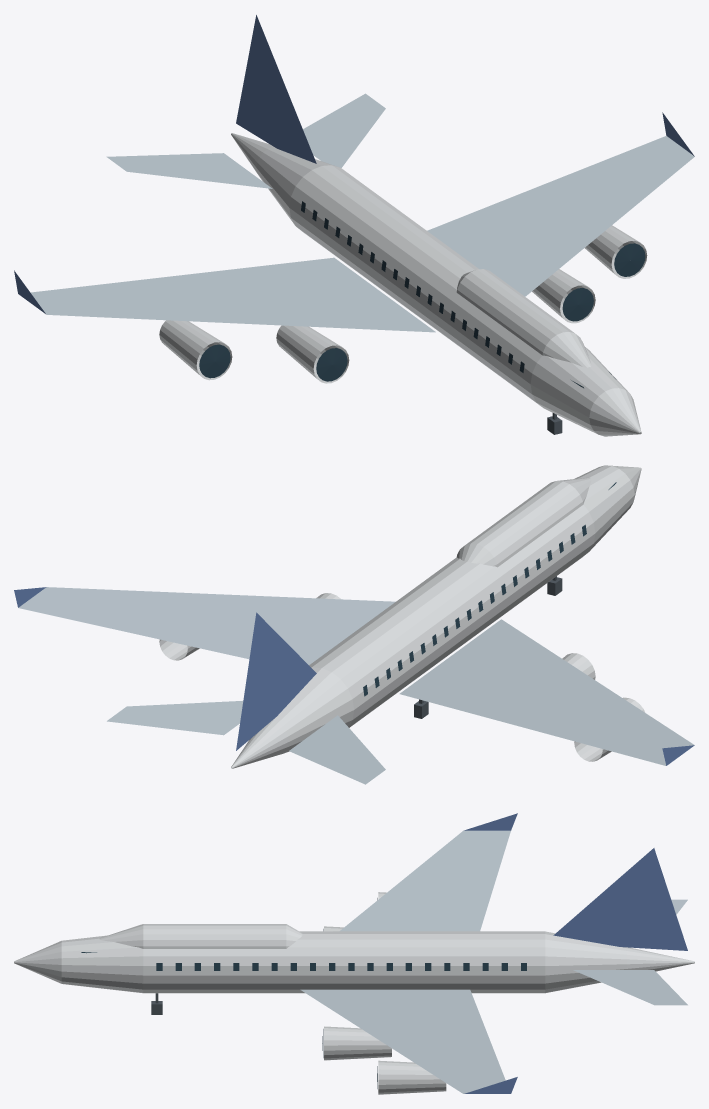
The model's file is b747-BAW.gltf.
3 renders of one model, top to bottom at view 1: azimuth 30°, elevation 25°; view 2: azimuth 150°, elevation 25°; view 3: azimuth 270°, elevation 25°, orthographic. The views are drawn at different scales.
Parts seen in each view (by area): view 1: object 1; view 2: object 1, Gear; view 3: object 1.
Part boxes in pixels (x1,y1,x2,y2): object 1: (14,15,694,436); object 1: (14,465,694,784); Gear: (414,576,562,718); object 1: (14,813,694,1094).
Size of the model in its own units: 65 by 19.04 by 71.
